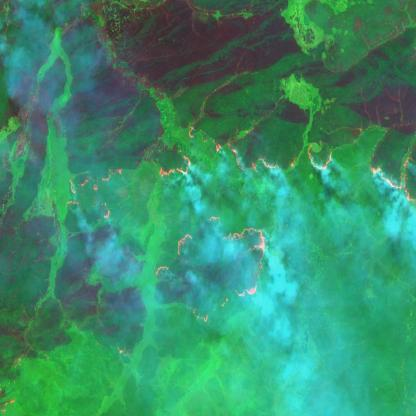fire: (62, 116, 416, 207), (154, 213, 268, 330)
